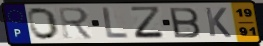B: (167, 6, 203, 39)
K: (203, 6, 233, 39)
L: (101, 6, 129, 40)
O: (27, 7, 61, 42)
R: (57, 6, 96, 41)
Z: (128, 5, 168, 40)
